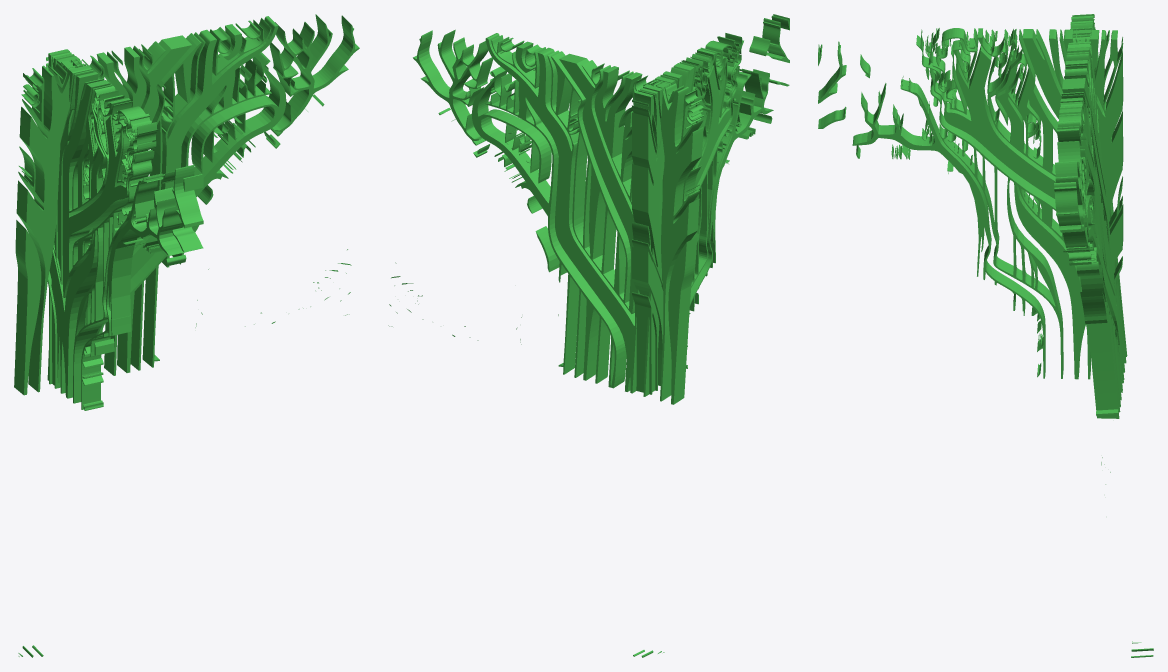
The picture shows the model from 3 angles, left to right: view 1: azimuth 30°, elevation 25°; view 2: azimuth 150°, elevation 25°; view 3: azimuth 270°, elevation 25°; orthographic projection. The views are drawn at different scales.
Visible parts, largest first — view 1: Mesh_Mesh_head_geo.001_lambert2SG.001; view 2: Mesh_Mesh_head_geo.001_lambert2SG.001; view 3: Mesh_Mesh_head_geo.001_lambert2SG.001.
Boxes of the visible parts, x1,y1,x2,y2 form: Mesh_Mesh_head_geo.001_lambert2SG.001: (14,14,359,657); Mesh_Mesh_head_geo.001_lambert2SG.001: (388,14,789,657); Mesh_Mesh_head_geo.001_lambert2SG.001: (818,14,1153,657).
Bounding box in the file's own units: 179 × 313 × 151.
